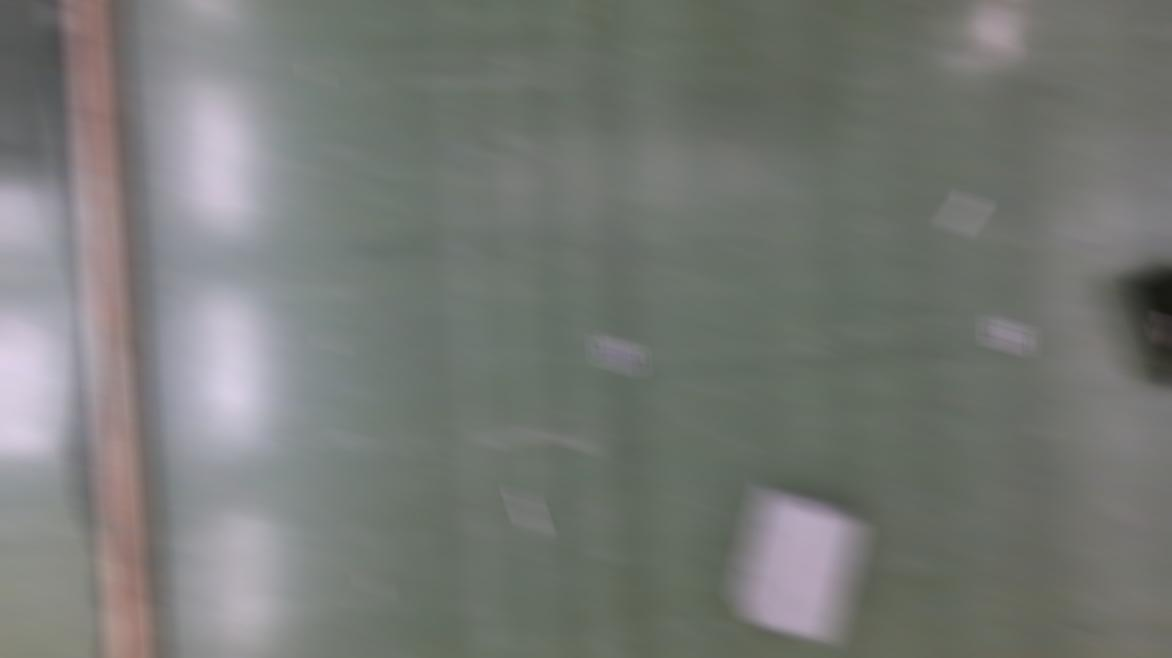probes: (946, 190, 980, 233), (512, 485, 538, 530)
rako: (732, 483, 863, 642), (1127, 254, 1172, 390)
